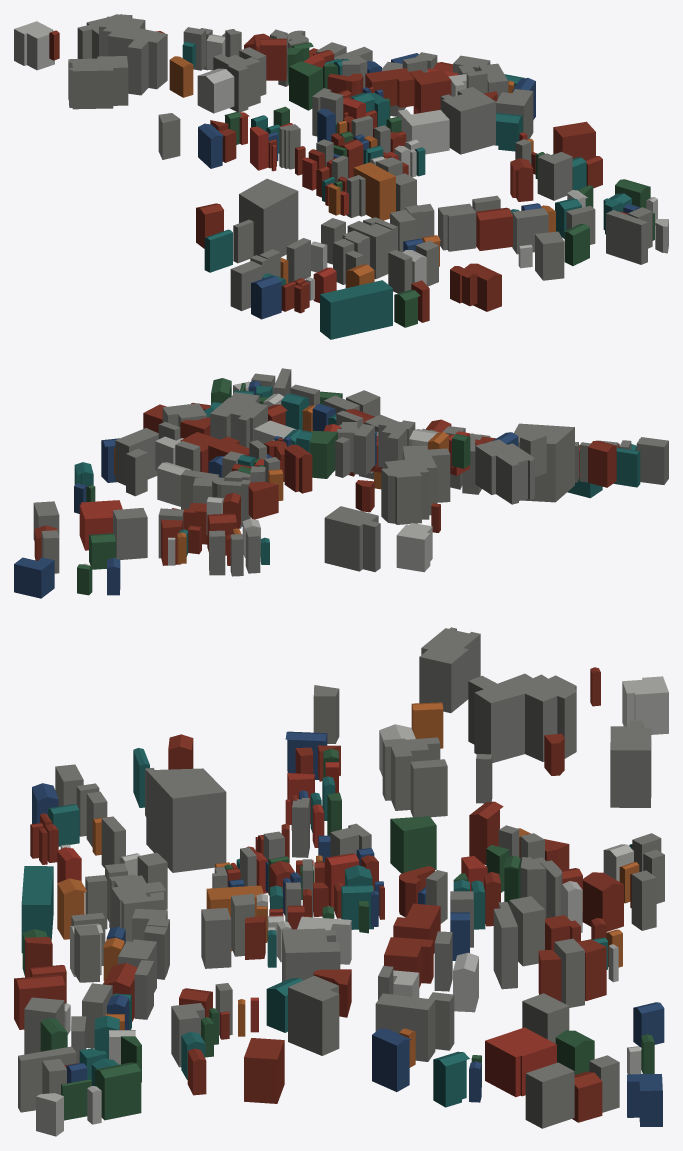
The model's file is near-17-109439-59476.9334ef1a.glb.
3 renders of one model, top to bottom at view 1: azimuth 30°, elevation 25°; view 2: azimuth 150°, elevation 25°; view 3: azimuth 270°, elevation 25°, orthographic. The views are drawn at different scales.
Size of the model in its own units: 319 by 120 by 305.
